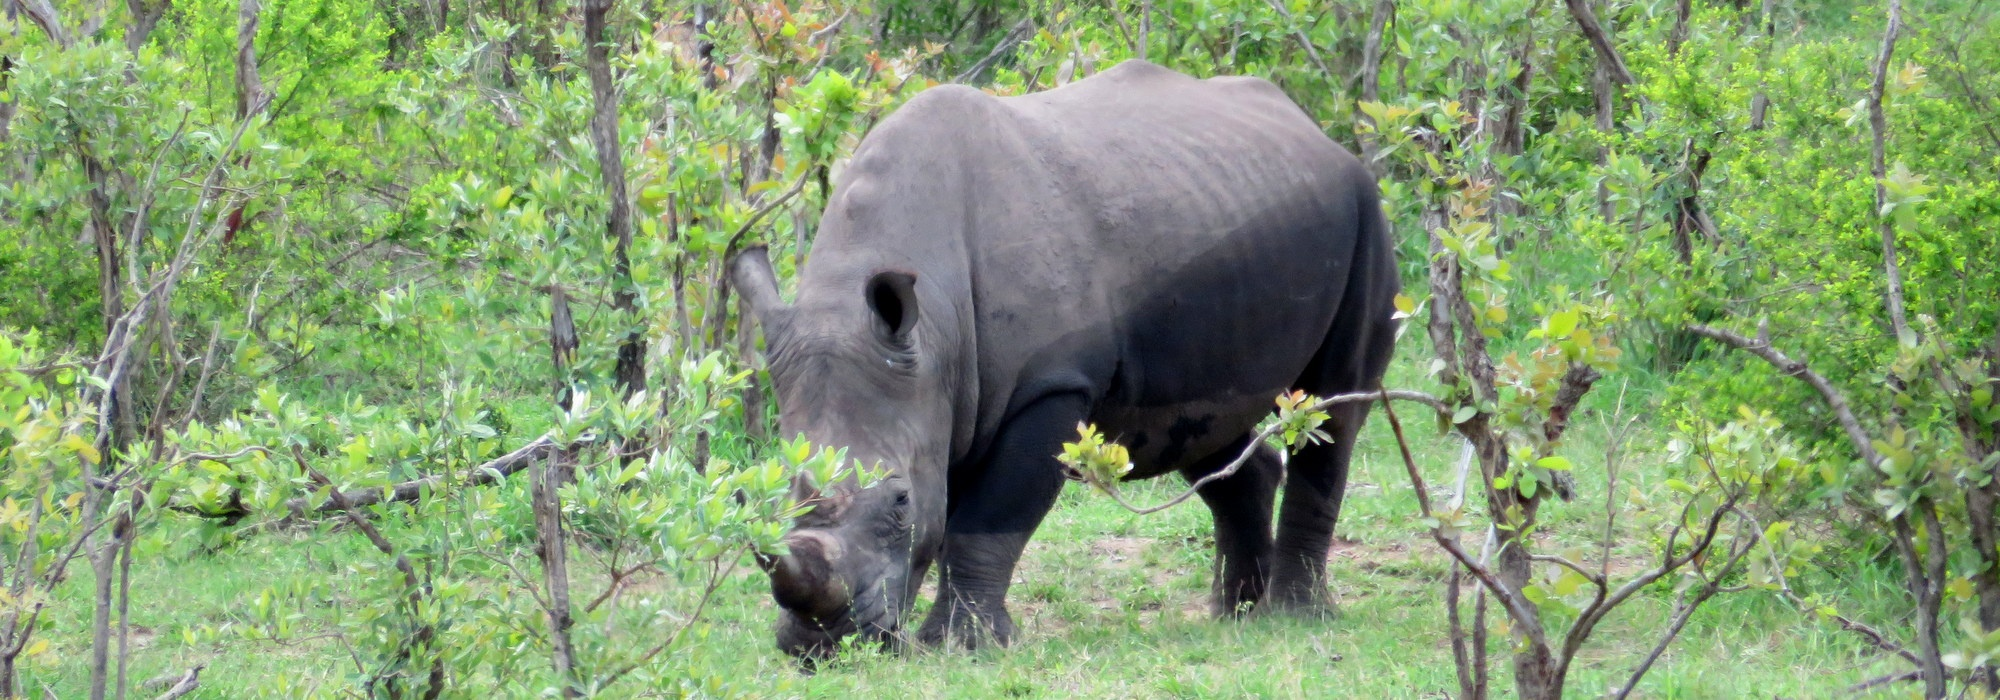rhino: (723, 57, 1403, 672)
